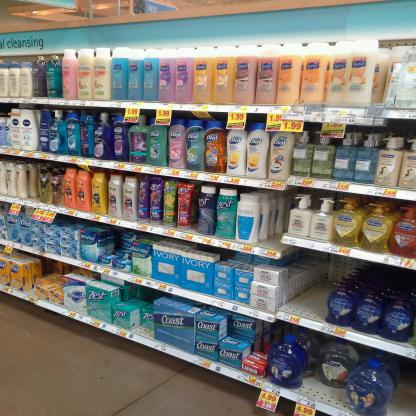Void: (290, 248, 324, 319), (393, 360, 410, 413), (307, 382, 343, 407), (44, 262, 56, 276), (140, 288, 152, 302)
